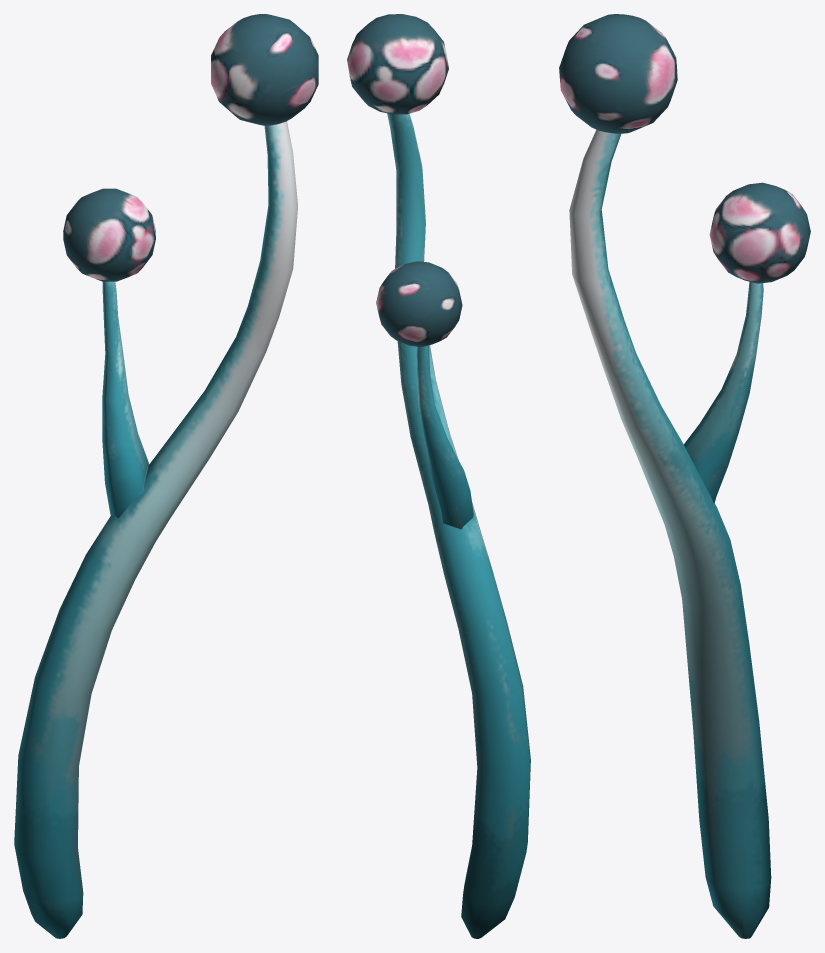
Rendered from Cartoon Seaweed_13-1-29.fbx.
3 views of the same model, side by side, from view 1: azimuth 30°, elevation 25°; view 2: azimuth 150°, elevation 25°; view 3: azimuth 270°, elevation 25° (orthographic). The views are drawn at different scales.
Visible parts, largest first — view 1: Cartoon Seaweed_13.1.29; view 2: Cartoon Seaweed_13.1.29; view 3: Cartoon Seaweed_13.1.29.
Boxes of the visible parts, x1=… form: Cartoon Seaweed_13.1.29: x1=14, y1=14, x2=318, y2=938; Cartoon Seaweed_13.1.29: x1=347, y1=14, x2=530, y2=938; Cartoon Seaweed_13.1.29: x1=559, y1=14, x2=810, y2=938.
Size of the model in its own units: 12.5 by 45.84 by 10.54.
1 material, 1 textured.
